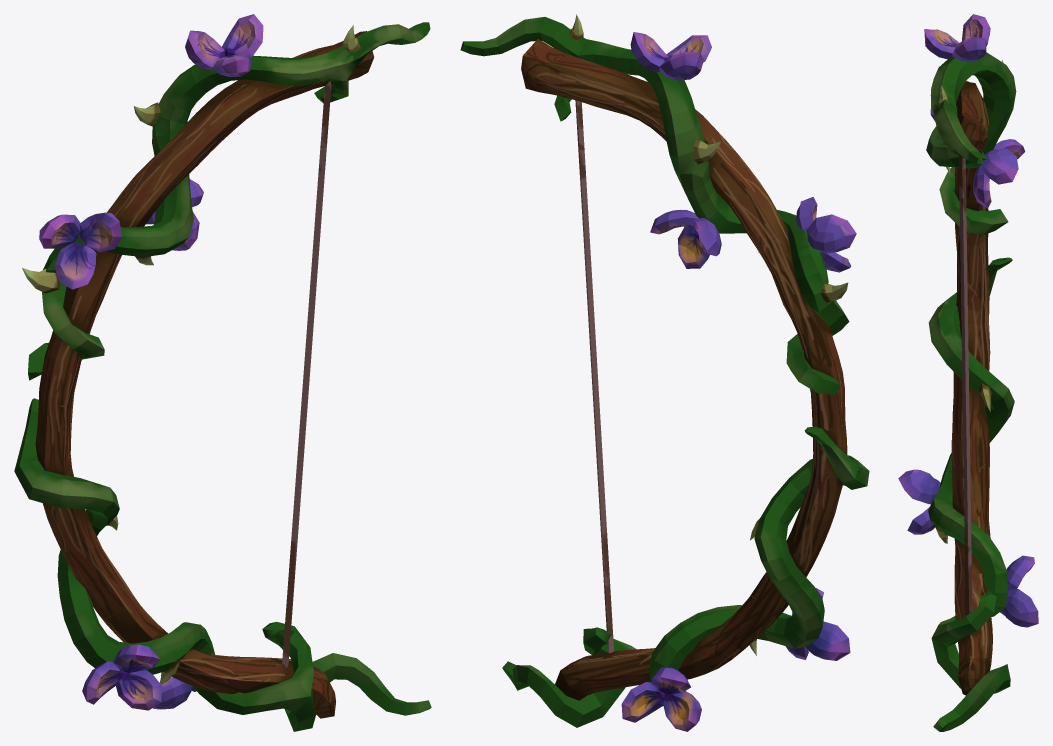
3 views of the same model, side by side, from view 1: azimuth 30°, elevation 25°; view 2: azimuth 150°, elevation 25°; view 3: azimuth 270°, elevation 25° (orthographic). The views are drawn at different scales.
Parts seen in each view (by area): view 1: bow1_1, bow2, pCylinder6, PM3D_Cube3D4_3, PM3D_Cube3D4_5, PM3D_Cube3D4_2, PM3D_Cube3D4_6, PM3D_Cube3D4_4; view 2: bow1_1, bow2, pCylinder6, PM3D_Cube3D4_6, PM3D_Cube3D4_2, PM3D_Cube3D4_3, PM3D_Cube3D4_4, PM3D_Cube3D4_5; view 3: bow1_1, bow2, pCylinder6, PM3D_Cube3D4_2, PM3D_Cube3D4_4, PM3D_Cube3D4_6, PM3D_Cube3D4_5.
Boxes of the visible parts, x1,y1,x2,y2 form: bow1_1: [14, 22, 431, 731]; bow2: [35, 31, 374, 718]; pCylinder6: [282, 81, 331, 667]; PM3D_Cube3D4_3: [39, 212, 122, 289]; PM3D_Cube3D4_5: [82, 644, 161, 710]; PM3D_Cube3D4_2: [185, 14, 263, 76]; PM3D_Cube3D4_6: [153, 677, 196, 709]; PM3D_Cube3D4_4: [146, 179, 203, 250]; bow1_1: [460, 17, 869, 727]; bow2: [521, 39, 847, 700]; pCylinder6: [575, 100, 613, 653]; PM3D_Cube3D4_6: [621, 667, 701, 731]; PM3D_Cube3D4_2: [630, 32, 711, 80]; PM3D_Cube3D4_3: [796, 197, 856, 272]; PM3D_Cube3D4_4: [650, 210, 721, 268]; PM3D_Cube3D4_5: [785, 588, 850, 660]; bow1_1: [926, 52, 1016, 731]; bow2: [951, 81, 992, 695]; pCylinder6: [959, 156, 972, 615]; PM3D_Cube3D4_2: [924, 14, 990, 61]; PM3D_Cube3D4_4: [973, 139, 1025, 208]; PM3D_Cube3D4_6: [1000, 555, 1038, 627]; PM3D_Cube3D4_5: [898, 469, 940, 534].
Size of the model in its own units: 0.5685 by 0.9584 by 0.1919.
Materials: 1 (1 with a texture image).
